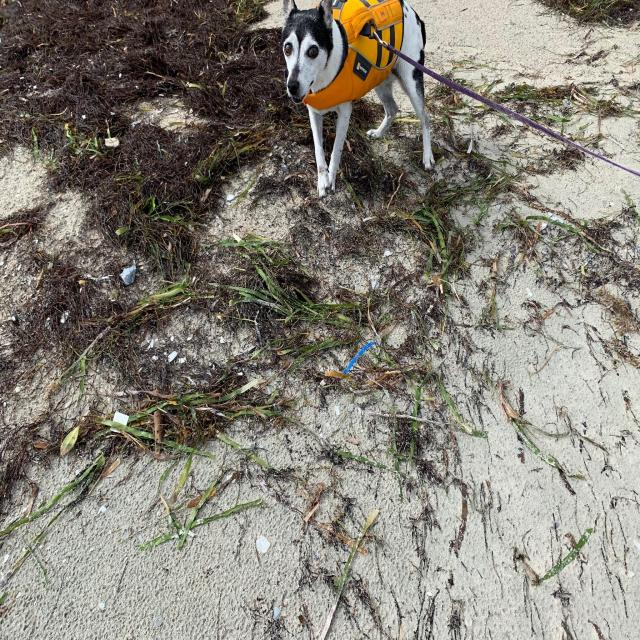litter: (342, 342, 378, 373)
